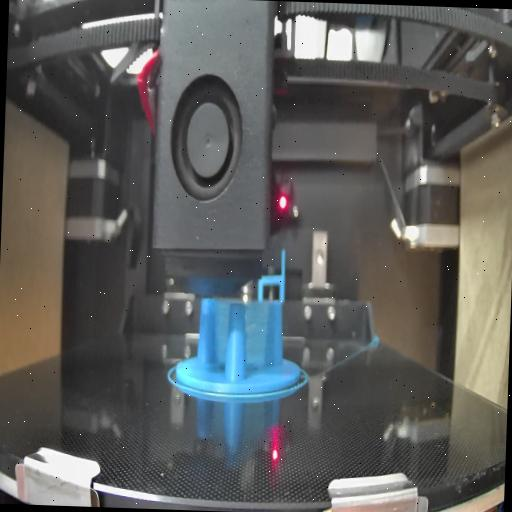stringing: (243, 302, 276, 378), (207, 300, 229, 374)
